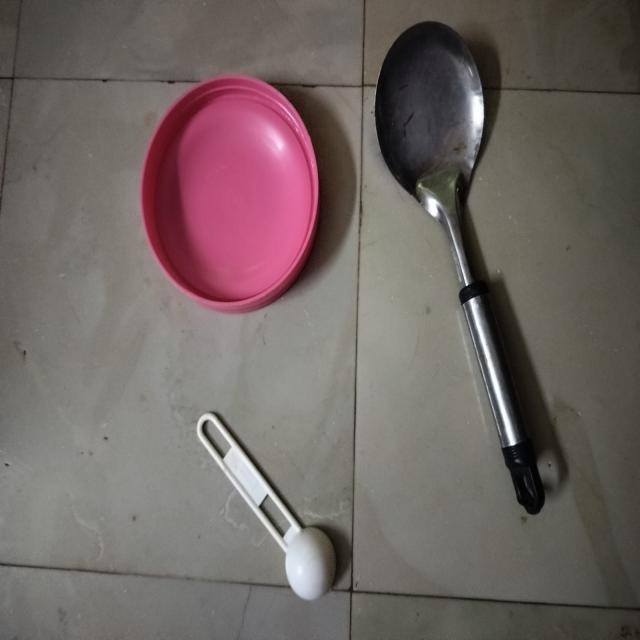metal: (366, 12, 567, 534)
paper: (184, 388, 346, 617)
plastic: (126, 50, 335, 320)
